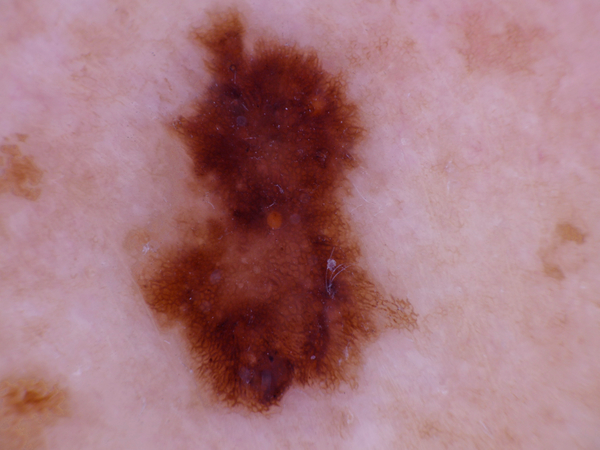Detected Lesion: (134, 9, 406, 421)
